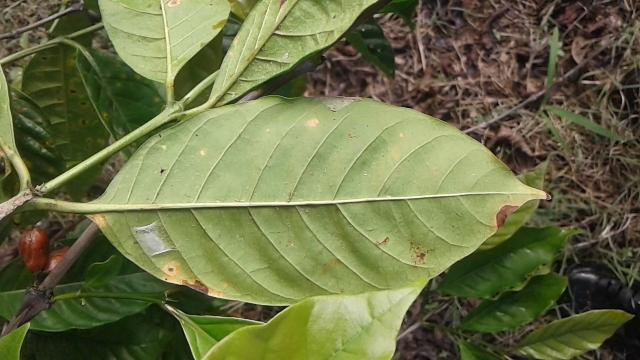rust_level_1: (78, 98, 552, 302)
